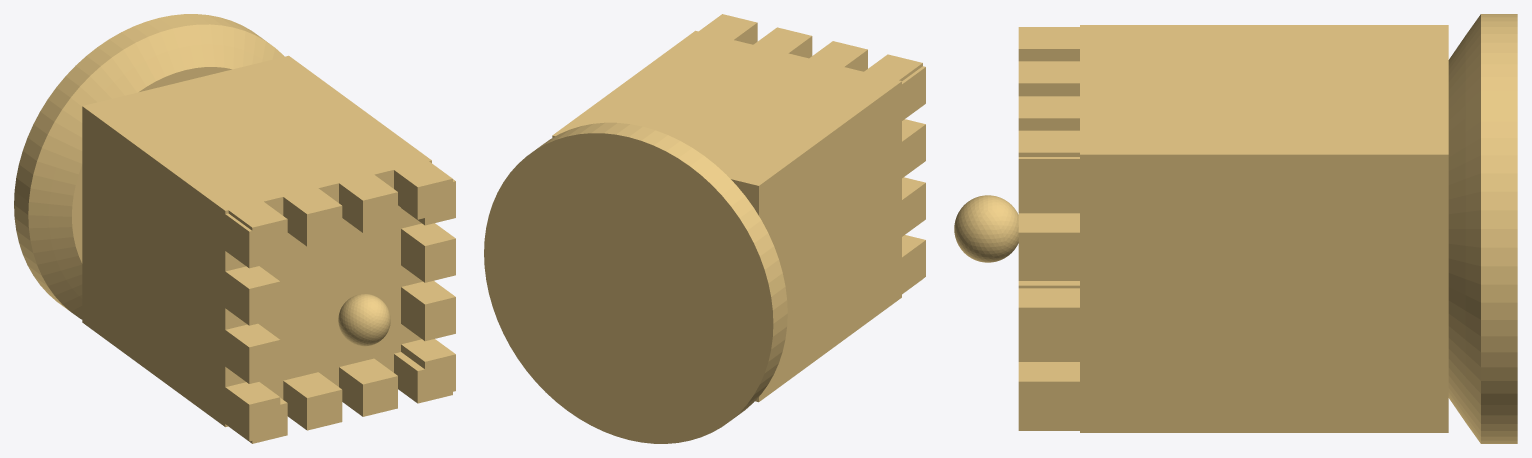
File: durg_surya.glb
3 renders of one model, left to right at view 1: azimuth 30°, elevation 25°; view 2: azimuth 150°, elevation 25°; view 3: azimuth 270°, elevation 25°, orthographic. The views are drawn at different scales.
Visible parts, largest first — view 1: geometry_0; view 2: geometry_0; view 3: geometry_0.
Boxes of the visible parts, x1=… form: geometry_0: x1=14, y1=14, x2=455, y2=443; geometry_0: x1=484, y1=14, x2=925, y2=443; geometry_0: x1=954, y1=14, x2=1517, y2=443.
Bounding box in the file's own units: 0.028 × 0.028 × 0.0367.
